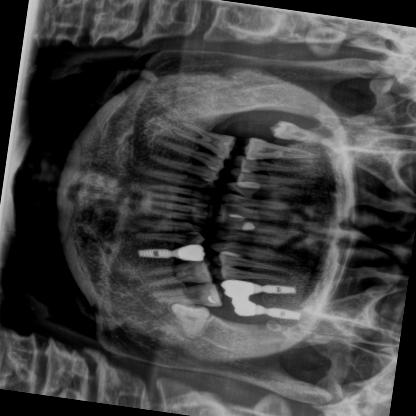Bicon: (248, 300, 310, 327), (128, 238, 182, 266), (245, 276, 298, 301)
